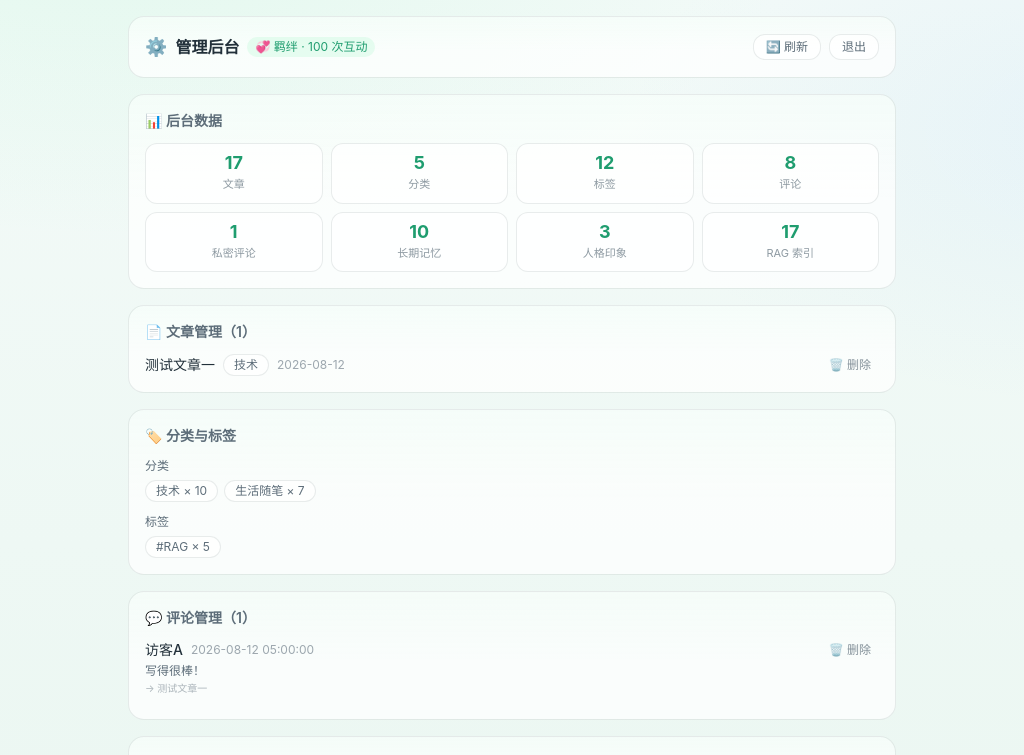
Scenario: Admin › 退出登录：清 token 回到登录框
This screenshot has width=1024, height=755.
Click the button "退出" at (854, 47), box [829,34,879,60]
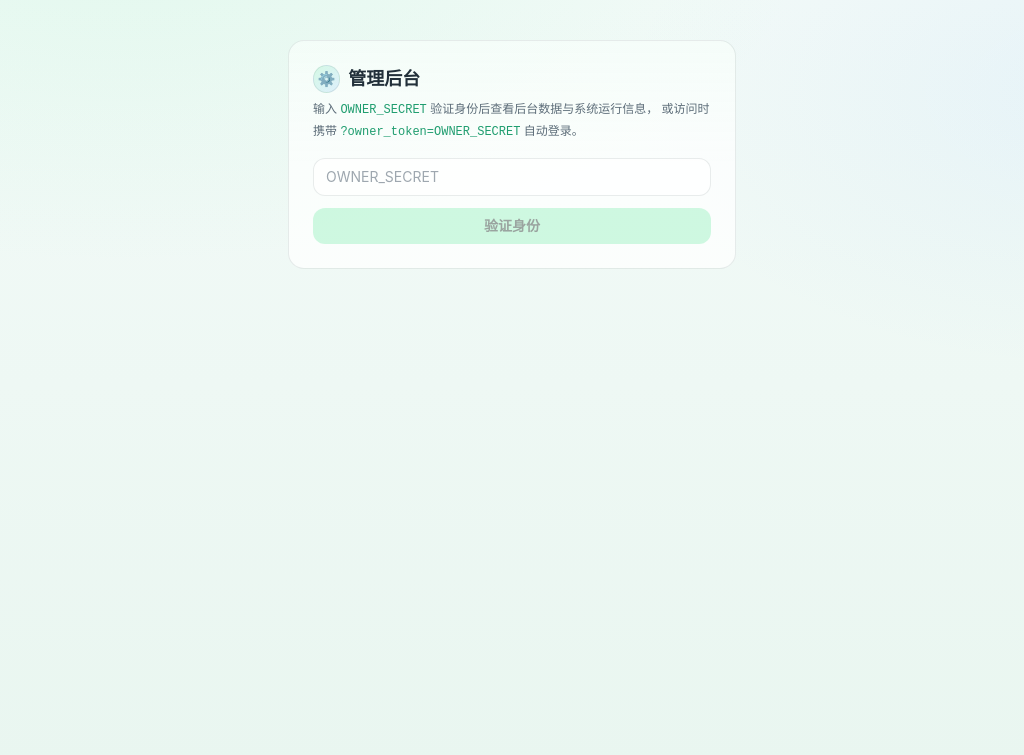
expect the password field with placeholder "OWNER_SECRET" is shown: met, box [313,158,711,196]
